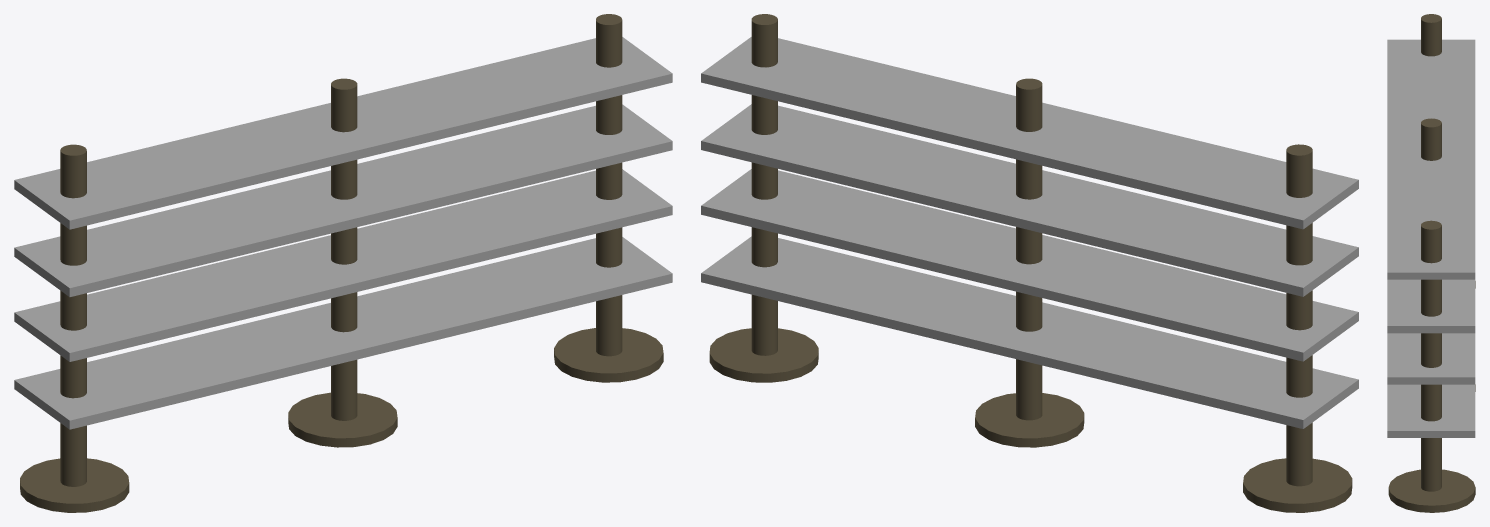
File: shelf.fbx
The picture shows the model from 3 angles, left to right: view 1: azimuth 30°, elevation 25°; view 2: azimuth 150°, elevation 25°; view 3: azimuth 270°, elevation 25°; orthographic projection. The views are drawn at different scales.
Visible parts, largest first — view 1: pasted__pCube1 (×2), pCube1, pasted__pasted__pCube1, pasted__pCylinder2 (×2), pCylinder1, pasted__pCylinder1, pasted__pasted__pCylinder1, pCylinder2; view 2: pasted__pCube1 (×2), pasted__pasted__pCube1, pCube1, pasted__pCylinder2 (×2), pCylinder1, pasted__pCylinder1, pasted__pasted__pCylinder1, pCylinder2; view 3: pasted__pCube1 (×2), pasted__pCylinder1, pCube1, pasted__pasted__pCube1, pasted__pCylinder2, pCylinder1, pasted__pasted__pCylinder1.
Part boxes in pixels (x1,y1,x2,y2): pasted__pCube1 (×2): [14, 37, 672, 429]; pCube1: [14, 104, 672, 296]; pasted__pasted__pCube1: [14, 169, 672, 361]; pasted__pCylinder2 (×2): [20, 328, 663, 512]; pCylinder1: [60, 144, 86, 486]; pasted__pCylinder1: [596, 14, 622, 356]; pasted__pasted__pCylinder1: [331, 78, 357, 420]; pCylinder2: [288, 392, 397, 447]; pasted__pCube1 (×2): [701, 37, 1358, 428]; pasted__pasted__pCube1: [701, 169, 1358, 361]; pCube1: [701, 104, 1358, 296]; pasted__pCylinder2 (×2): [709, 328, 1352, 512]; pCylinder1: [1286, 144, 1312, 486]; pasted__pCylinder1: [751, 14, 777, 355]; pasted__pasted__pCylinder1: [1016, 78, 1042, 420]; pCylinder2: [975, 393, 1084, 447]; pasted__pCube1 (×2): [1387, 39, 1475, 437]; pasted__pCylinder1: [1421, 220, 1441, 491]; pCube1: [1387, 279, 1475, 333]; pasted__pasted__pCube1: [1387, 333, 1475, 384]; pasted__pCylinder2: [1388, 469, 1475, 512]; pCylinder1: [1421, 14, 1441, 56]; pasted__pasted__pCylinder1: [1421, 118, 1441, 160].
Bounding box in the file's own units: 7.28 × 3.76 × 1.12.
